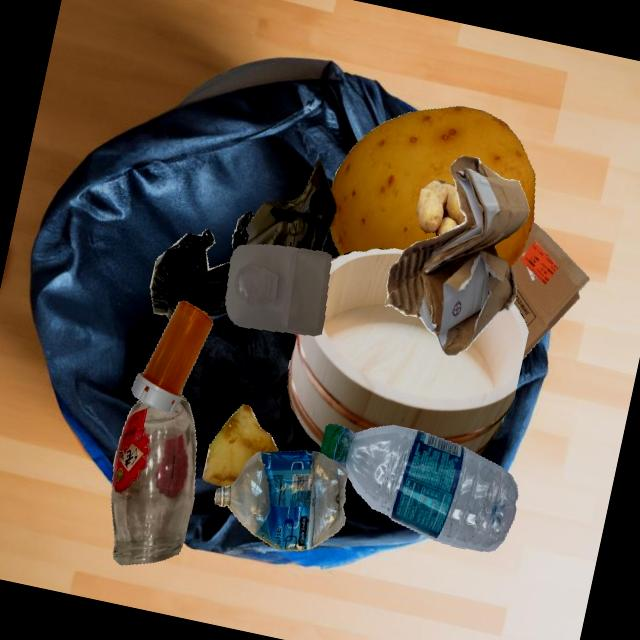biowaste: (329, 106, 535, 267), (202, 404, 278, 487), (416, 179, 465, 237)
cardboard: (384, 155, 529, 356), (510, 221, 589, 359)
combustible waste: (287, 248, 528, 455)
glass: (111, 395, 196, 564)
paper: (246, 160, 336, 251)
plastic: (319, 424, 517, 552), (214, 450, 347, 550), (225, 244, 331, 335), (130, 300, 213, 413), (150, 229, 230, 320)
